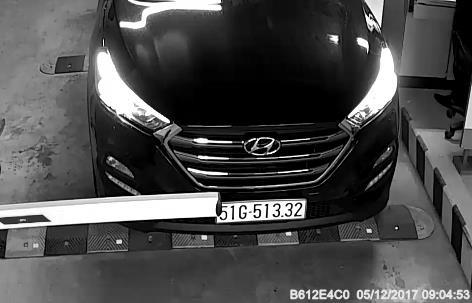License-plate: (207, 192, 318, 231)
